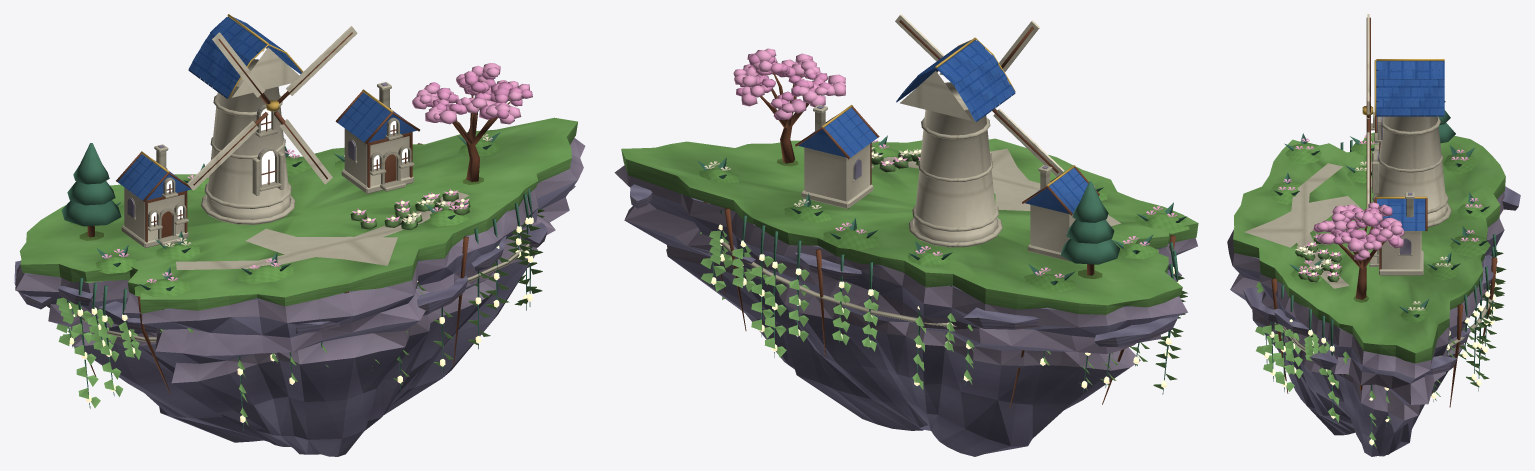
File: sky-windmill-final-v1.glb
The picture shows the model from 3 angles, left to right: view 1: azimuth 30°, elevation 25°; view 2: azimuth 150°, elevation 25°; view 3: azimuth 270°, elevation 25°; orthographic projection. The views are drawn at different scales.
Parts seen in each view (by area): view 1: sky-windmill-final-v1; view 2: sky-windmill-final-v1; view 3: sky-windmill-final-v1.
Boxes of the visible parts, <box> form: sky-windmill-final-v1: <box>14,14,585,456</box>; sky-windmill-final-v1: <box>614,14,1198,456</box>; sky-windmill-final-v1: <box>1227,14,1520,456</box>.
Bounding box in the file's own units: 18.45 × 13.36 × 9.43.
10 materials, 10 textured.
